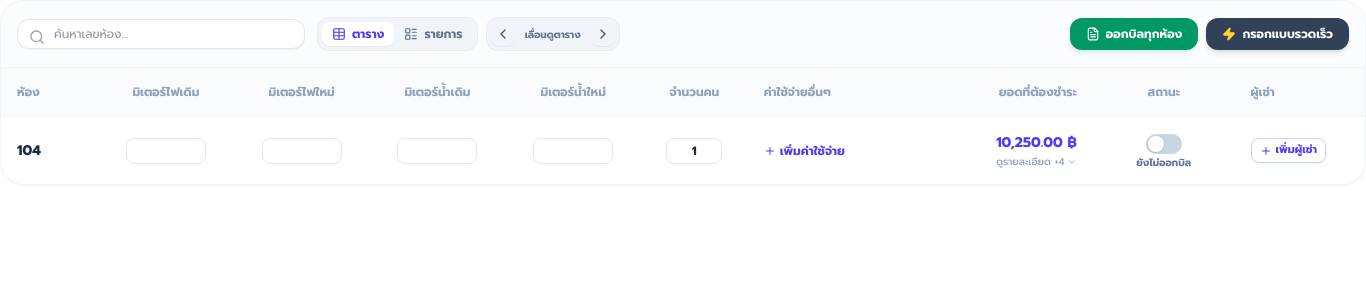
Test case: LOCAL-07 Backend Canonical Owner Payable Preview Suite › 20. Entire inline row follows unified status color family for PREVIEW, UNPAID, PAID, and INVALID
Expected: the text "104" is shown, top-left (1, 116), bottom-right (98, 184)
What coordinates should you click on to do the following:
click the button "ดูรายละเอียด +4"
I would click on:
 (1036, 162)
Its box is top-left (996, 155), bottom-right (1077, 168).
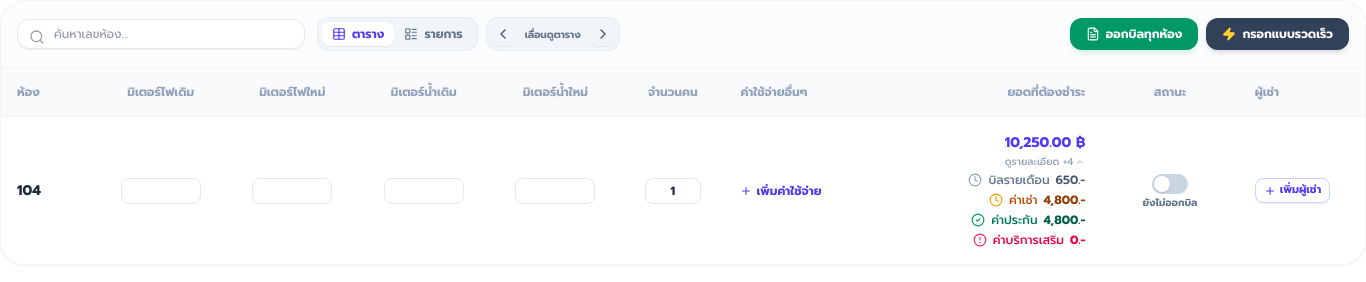
Expected: the element with test id "charge-component-row-r-104-0" shows "บิลรายเดือน", top-left (988, 171), bottom-right (1050, 189)
Expected: the element with test id "charge-component-row-r-104-0" shows "650.-", top-left (1056, 171), bottom-right (1085, 189)
Expected: the element with test id "charge-component-row-r-104-1" shows "ค่าเช่า", top-left (1009, 191), bottom-right (1038, 209)
